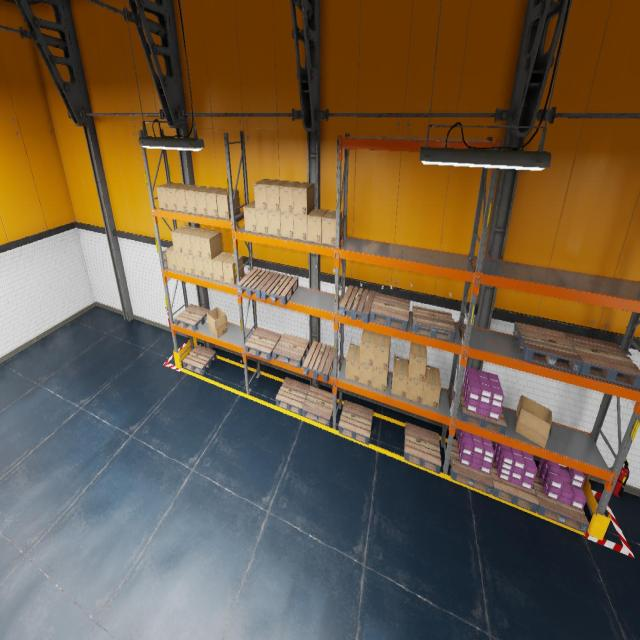box: (515, 395, 552, 448), (422, 365, 441, 409), (406, 360, 424, 404), (408, 342, 427, 382), (216, 189, 240, 219), (322, 210, 342, 246), (279, 181, 301, 213), (266, 180, 288, 212), (199, 230, 223, 259), (293, 182, 314, 215), (373, 332, 391, 370), (206, 307, 228, 338), (222, 253, 244, 284), (307, 209, 327, 243), (392, 356, 408, 398), (254, 179, 275, 210), (372, 354, 389, 392), (174, 184, 197, 212), (205, 188, 227, 217), (359, 329, 376, 366), (212, 251, 232, 282), (180, 227, 202, 255), (190, 228, 211, 257), (165, 184, 188, 210), (156, 183, 179, 209), (171, 225, 192, 253), (195, 187, 216, 215), (345, 343, 360, 382), (185, 186, 206, 213), (280, 212, 294, 239), (293, 214, 307, 241), (267, 210, 281, 237), (244, 201, 256, 232), (359, 363, 373, 387), (256, 209, 268, 234), (165, 246, 177, 270), (202, 258, 214, 280), (192, 256, 204, 277), (183, 254, 195, 275), (174, 252, 186, 272)
pallets: (564, 332, 640, 389), (533, 470, 589, 533), (513, 322, 582, 373), (491, 458, 539, 513), (449, 439, 493, 494), (459, 384, 507, 434), (404, 422, 441, 473), (412, 305, 456, 342), (338, 400, 373, 445), (370, 293, 410, 331), (339, 285, 375, 324), (275, 377, 310, 415), (302, 341, 334, 382), (273, 332, 309, 368), (244, 327, 281, 361), (302, 386, 333, 426), (261, 273, 298, 305), (237, 268, 275, 299), (182, 345, 216, 374), (174, 304, 210, 331)
